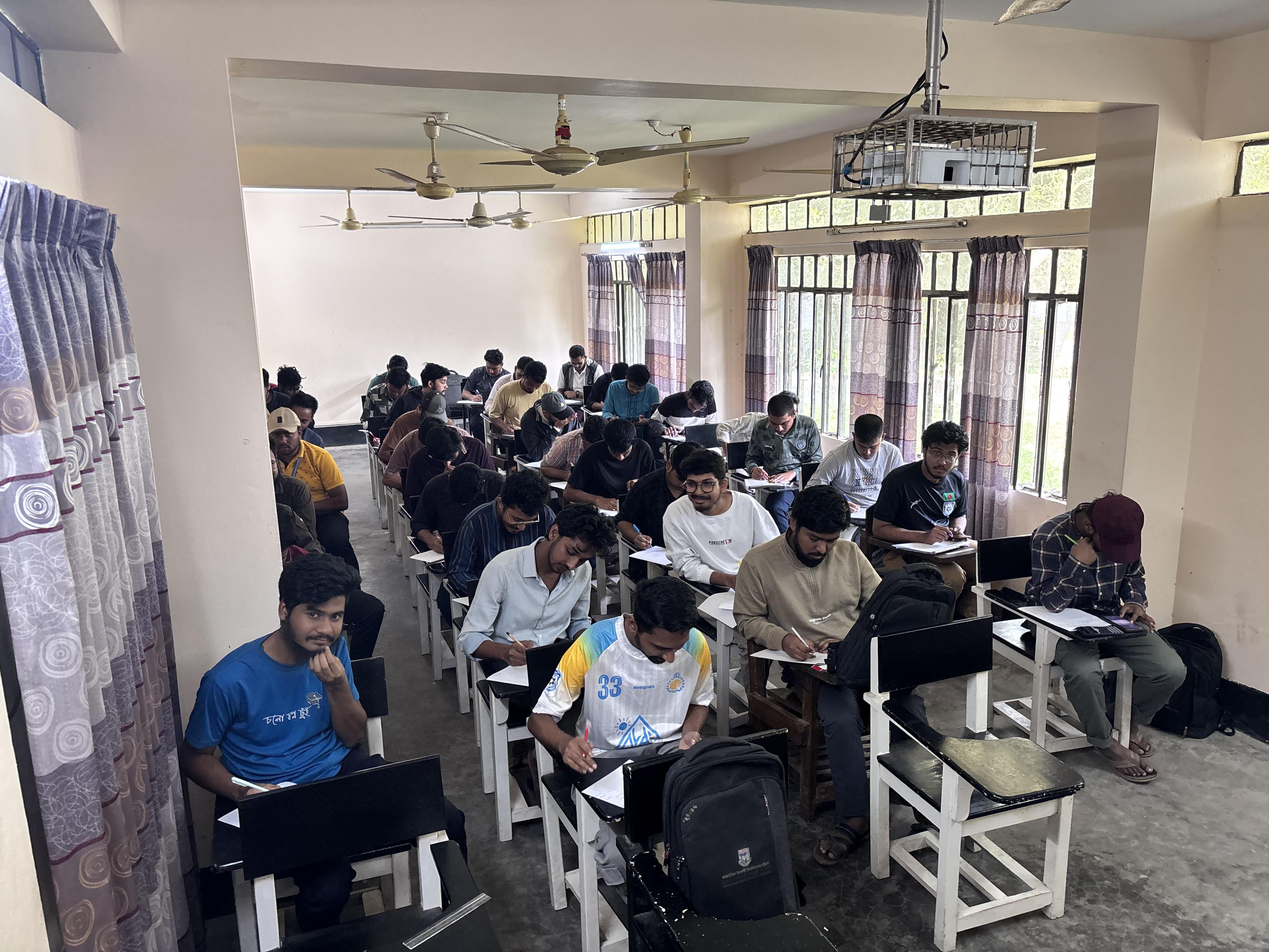hidden_communication: (530, 390, 573, 447)
no_cheating: (197, 565, 392, 807), (548, 574, 702, 794), (474, 511, 626, 669), (749, 484, 866, 678), (824, 408, 895, 505), (489, 470, 557, 541), (751, 393, 806, 480), (586, 428, 642, 498), (662, 378, 716, 443), (437, 464, 495, 524), (416, 432, 475, 486), (605, 364, 653, 422), (268, 408, 301, 469), (513, 363, 548, 408), (422, 361, 459, 400), (412, 394, 450, 427), (560, 343, 589, 385), (473, 347, 503, 383), (383, 369, 408, 407)
side_talking: (662, 458, 748, 574)
using_phone: (1020, 474, 1168, 678), (900, 419, 980, 549)
